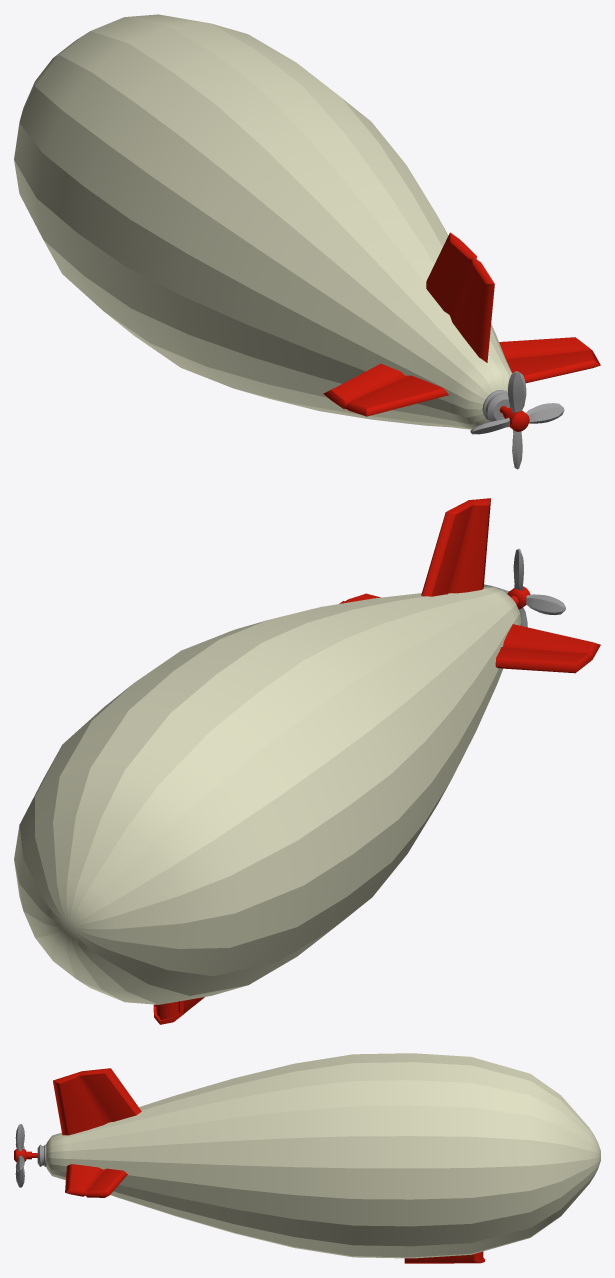
Rendered from zeppelin.glb.
The picture shows the model from 3 angles, top to bottom: view 1: azimuth 30°, elevation 25°; view 2: azimuth 150°, elevation 25°; view 3: azimuth 270°, elevation 25°; orthographic projection. The views are drawn at different scales.
Parts seen in each view (by area): view 1: pCube14_aiStandardSurface1_0, pCube14_aiStandardSurface6_0, propeler, pCube14_aiStandardSurface3_0; view 2: pCube14_aiStandardSurface1_0, pCube14_aiStandardSurface6_0, propeler, pCube14_aiStandardSurface2_0; view 3: pCube14_aiStandardSurface1_0, pCube14_aiStandardSurface6_0, pCube14_aiStandardSurface2_0, propeler.
Boxes of the visible parts, <box> form: pCube14_aiStandardSurface1_0: <box>14,14,512,429</box>; pCube14_aiStandardSurface6_0: <box>323,232,600,416</box>; propeler: <box>470,371,564,469</box>; pCube14_aiStandardSurface3_0: <box>482,390,510,421</box>; pCube14_aiStandardSurface1_0: <box>14,586,521,1004</box>; pCube14_aiStandardSurface6_0: <box>339,498,600,673</box>; propeler: <box>484,548,565,627</box>; pCube14_aiStandardSurface2_0: <box>153,997,204,1024</box>; pCube14_aiStandardSurface1_0: <box>46,1053,600,1258</box>; pCube14_aiStandardSurface6_0: <box>53,1068,141,1197</box>; pCube14_aiStandardSurface2_0: <box>404,1251,484,1263</box>; propeler: <box>15,1124,24,1187</box>.
Size of the model in its own units: 921 by 991 by 2614.
